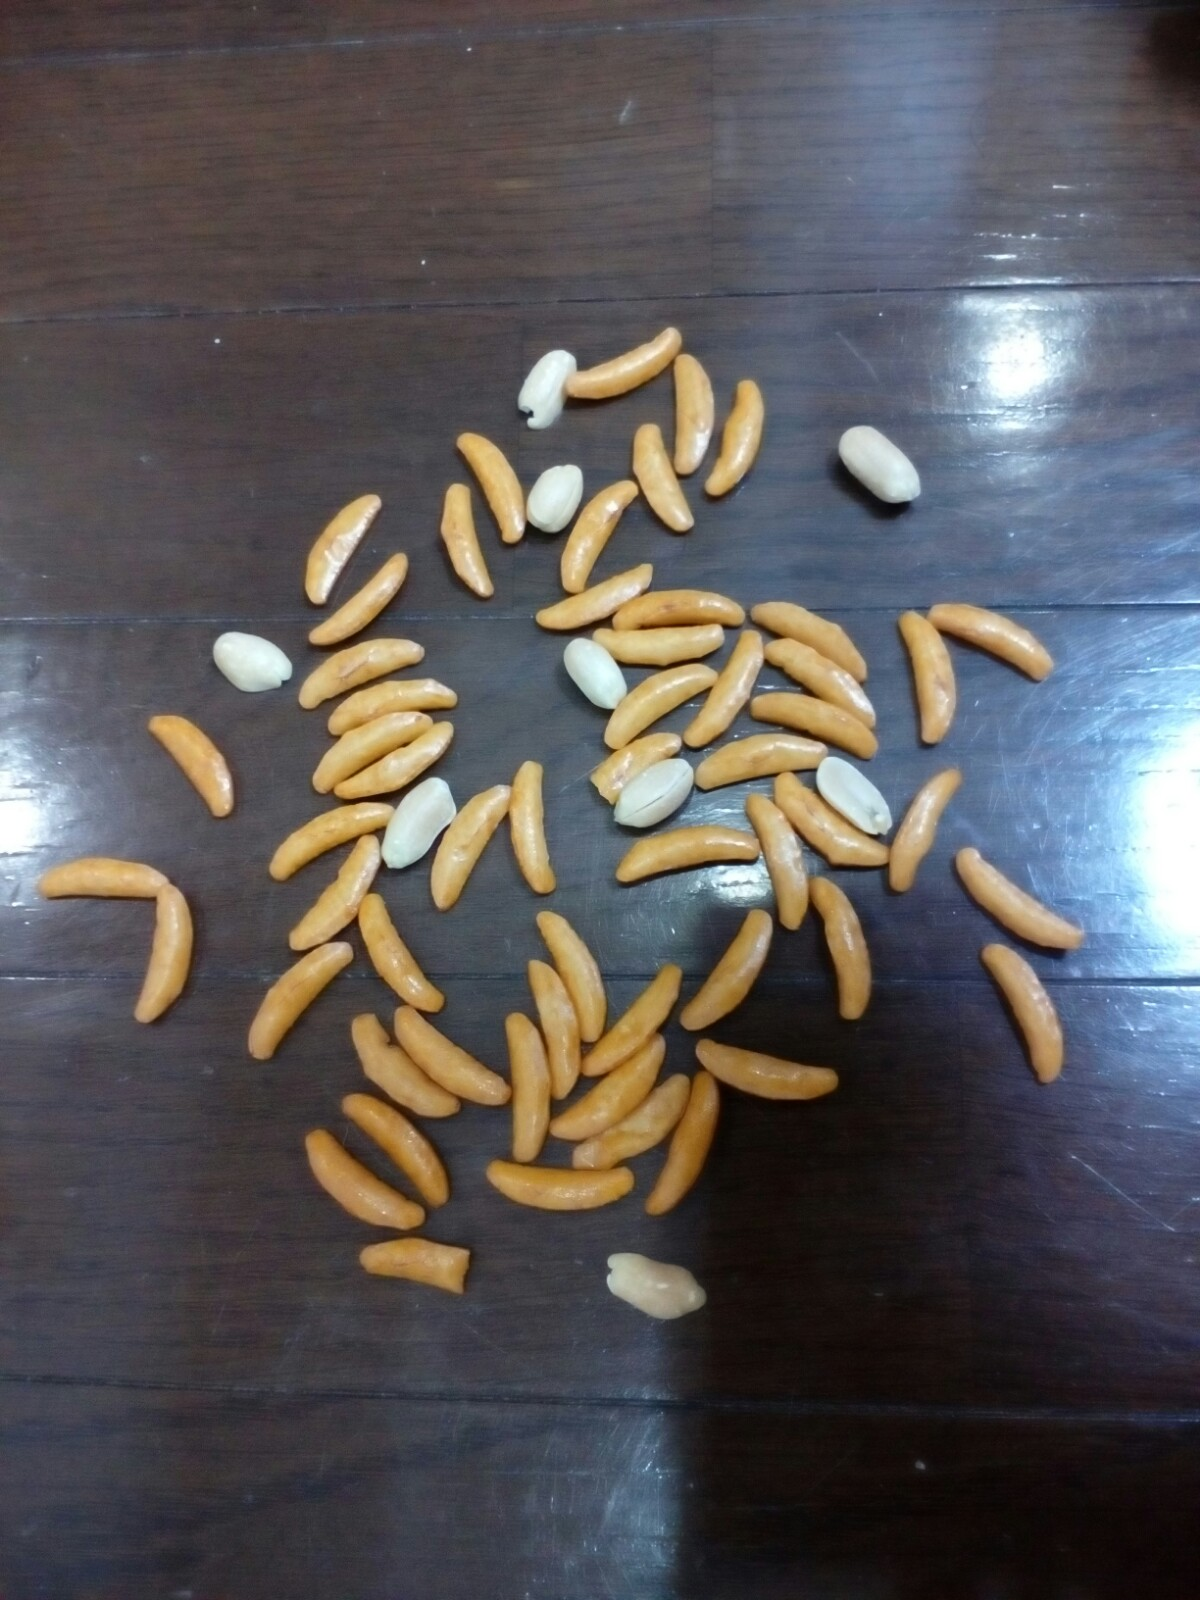peanut: (811, 745, 905, 848), (833, 414, 926, 517), (376, 776, 460, 874), (609, 748, 703, 829), (203, 621, 301, 689), (522, 450, 592, 542), (558, 627, 635, 712)
